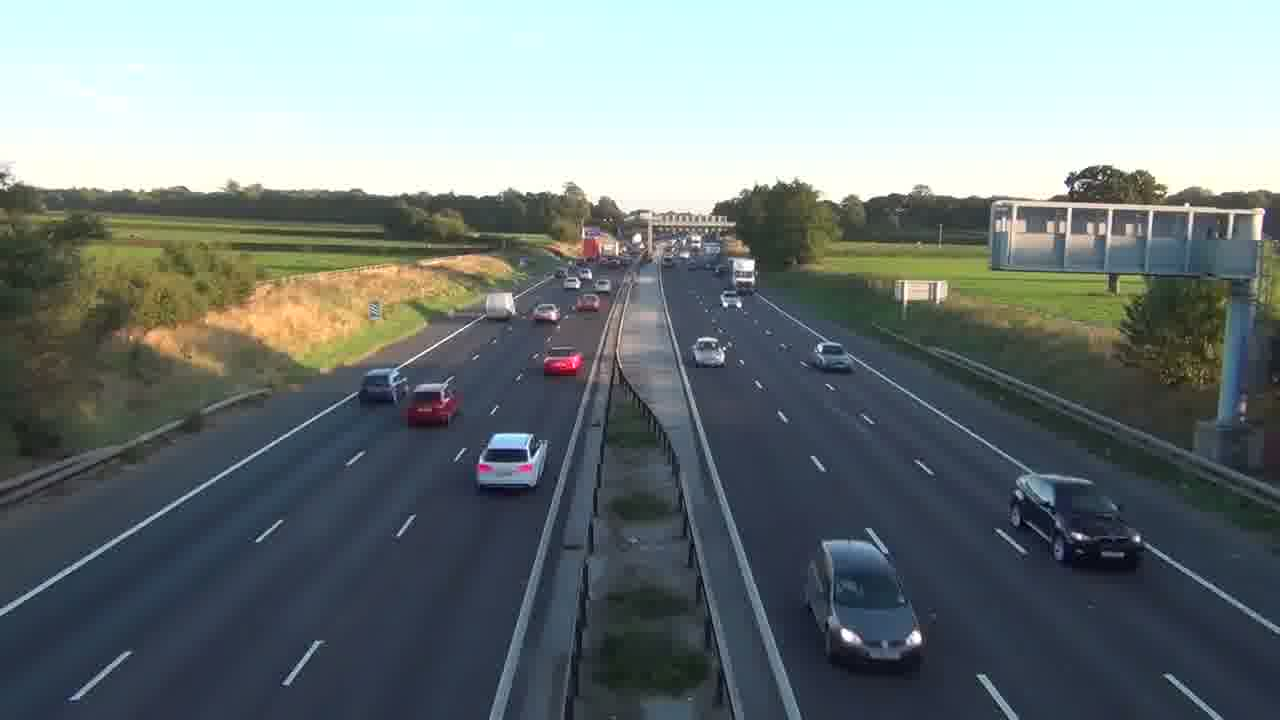car: (801, 528, 931, 669), (473, 432, 550, 494), (403, 384, 460, 427), (359, 367, 408, 405), (807, 340, 852, 371), (543, 347, 584, 377), (691, 336, 726, 367), (575, 292, 600, 313)
truck: (1007, 471, 1143, 569), (483, 291, 517, 320), (731, 257, 757, 292)
